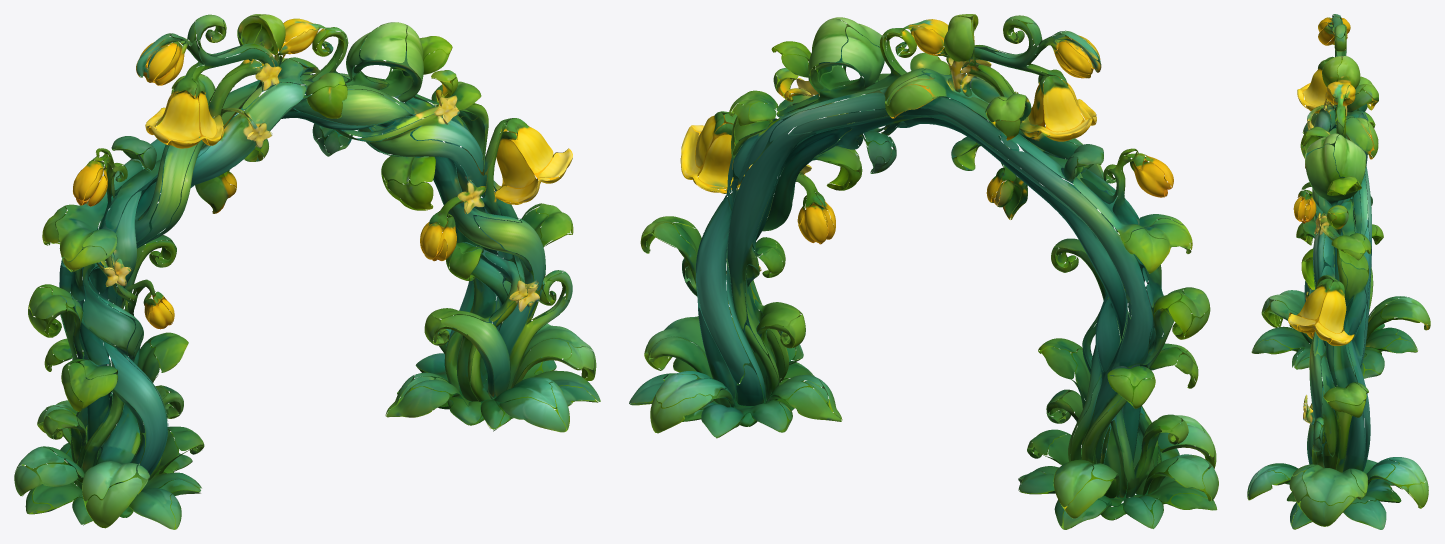
File: vine-arch.glb
3 views of the same model, side by side, from view 1: azimuth 30°, elevation 25°; view 2: azimuth 150°, elevation 25°; view 3: azimuth 270°, elevation 25° (orthographic). The views are drawn at different scales.
Parts seen in each view (by area): view 1: node_0; view 2: node_0; view 3: node_0.
Part boxes in pixels (x1,y1,x2,y2): node_0: (14, 14, 600, 529); node_0: (629, 14, 1218, 529); node_0: (1247, 14, 1430, 529).
Bounding box in the file's own units: 9.1 × 6.98 × 3.2.
1 material, 1 textured.
